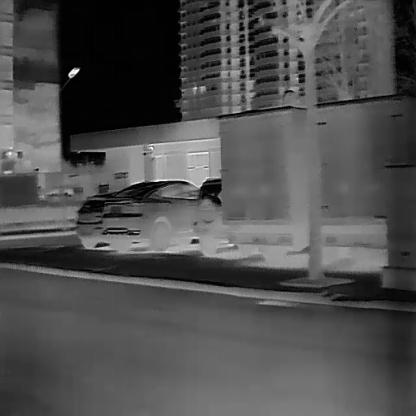car: (97, 179, 201, 249), (74, 190, 112, 249), (196, 176, 224, 255)
